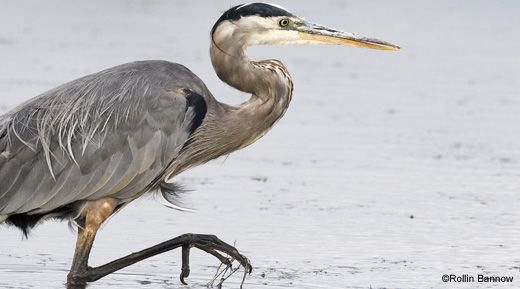heron: (1, 2, 402, 286)
